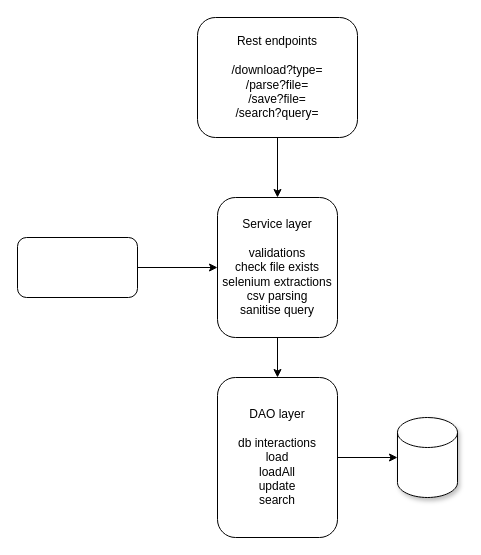
This 481x555 diagram has some shape labels left out. The shapes that lost their labels are listed below. From the top down, each one's centre as x and y in pixels, then its label:
At point (77, 267): "Schedulers refresh data".
At point (428, 458): "postgres".
